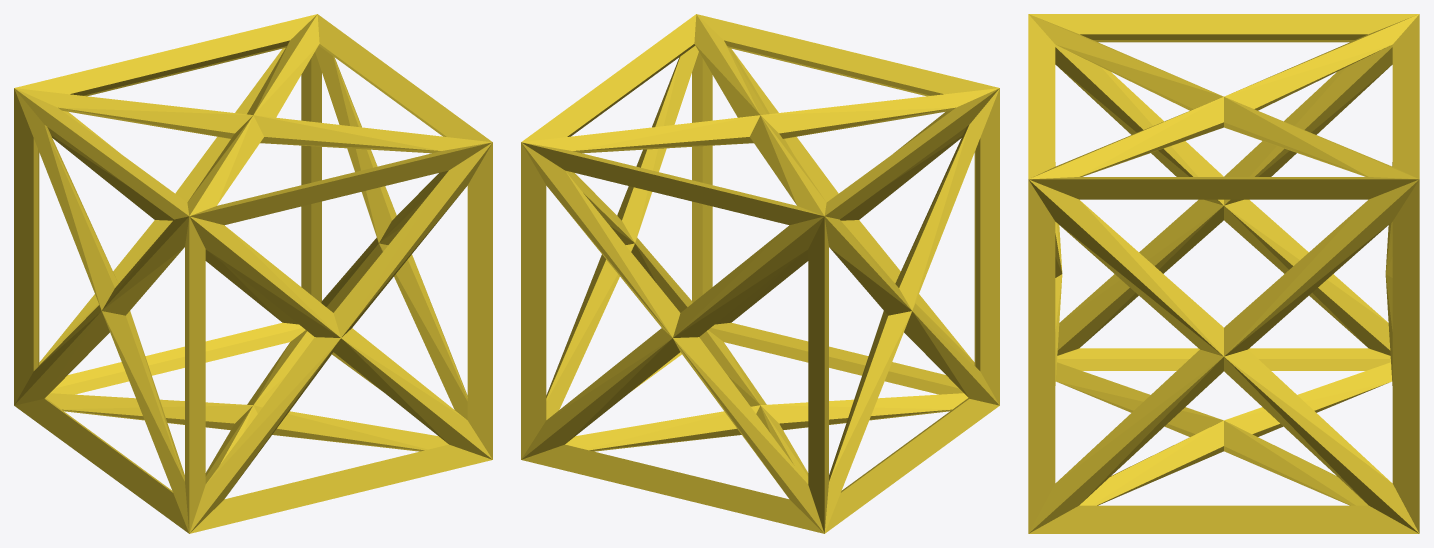
The model's file is scaffolding.fbx.
The picture shows the model from 3 angles, left to right: view 1: azimuth 30°, elevation 25°; view 2: azimuth 150°, elevation 25°; view 3: azimuth 270°, elevation 25°; orthographic projection. The views are drawn at different scales.
Parts seen in each view (by area): view 1: scaffolding; view 2: scaffolding; view 3: scaffolding.
Boxes of the visible parts, x1,y1,x2,y2 form: scaffolding: (14,14,492,533); scaffolding: (521,14,999,533); scaffolding: (1028,14,1419,533).
Size of the model in its own units: 100 by 100 by 100.
